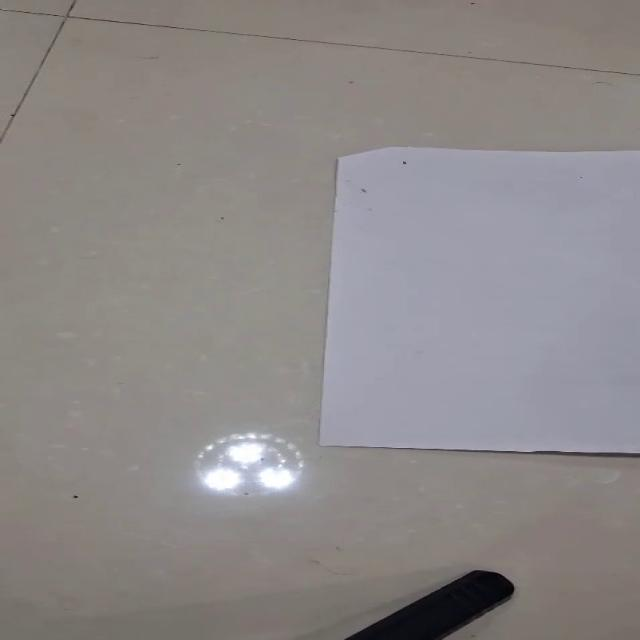paper: (316, 145, 639, 454)
